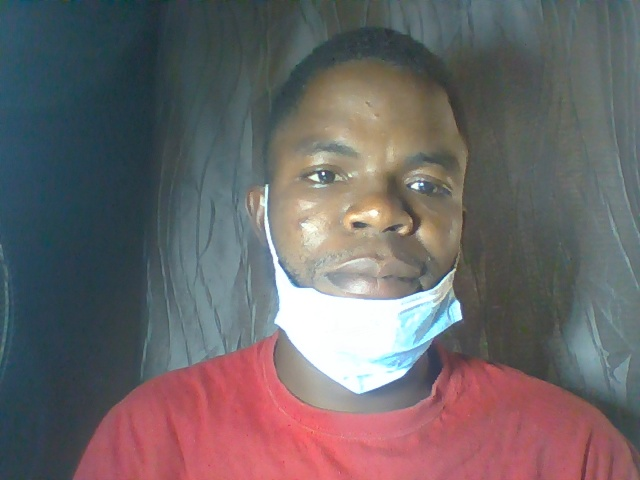MaskOff: (242, 24, 501, 395)
